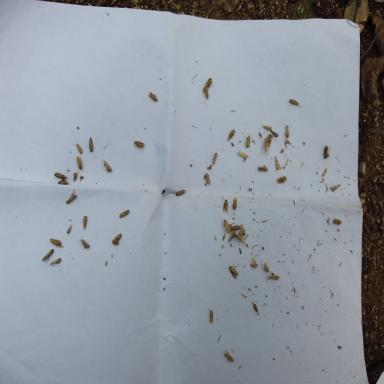pbw: (264, 133, 272, 152), (203, 76, 212, 92), (229, 266, 238, 278), (323, 145, 331, 158), (119, 208, 129, 218), (112, 233, 122, 243), (224, 350, 233, 361), (104, 160, 112, 172), (175, 190, 187, 198), (227, 129, 235, 141), (80, 239, 90, 248), (44, 248, 53, 258), (50, 238, 61, 246), (257, 164, 268, 172), (48, 258, 60, 265), (236, 233, 244, 243), (54, 172, 67, 178), (203, 86, 209, 99), (76, 156, 82, 169), (222, 199, 228, 212), (276, 176, 287, 183), (228, 230, 235, 241), (134, 141, 145, 148), (149, 92, 157, 101), (223, 220, 229, 232), (82, 216, 87, 230), (237, 152, 248, 158), (268, 274, 279, 280), (290, 98, 298, 106), (263, 262, 269, 272), (76, 143, 82, 153), (212, 152, 217, 164), (205, 172, 210, 184), (89, 137, 93, 151), (239, 224, 244, 235), (232, 198, 237, 209), (58, 179, 68, 184), (230, 225, 240, 230), (262, 124, 270, 130), (246, 135, 250, 147), (270, 130, 278, 136), (252, 258, 258, 266), (333, 219, 342, 224), (67, 224, 72, 233), (253, 303, 258, 312), (249, 263, 257, 268), (330, 185, 338, 190), (210, 310, 213, 323), (286, 125, 289, 137)
